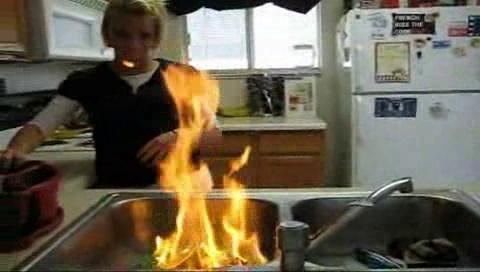fire: (164, 70, 217, 267), (223, 167, 253, 261)
